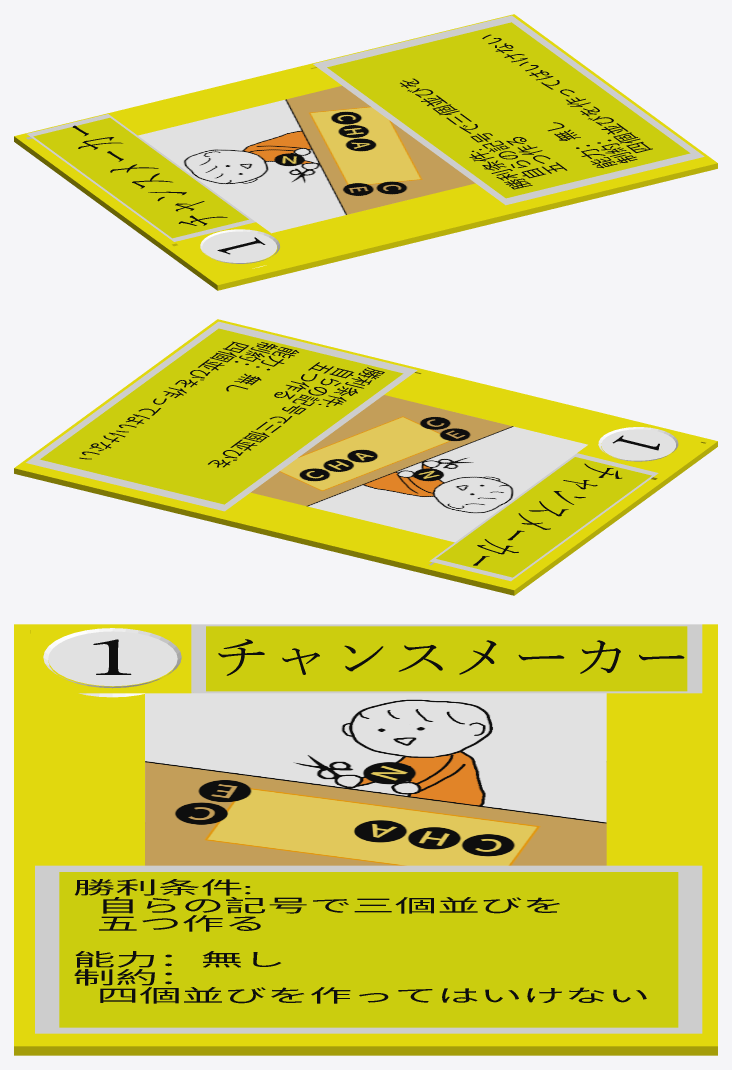
File: チャンスメーカー黄.fbx
3 views of the same model, one above another, from view 1: azimuth 30°, elevation 25°; view 2: azimuth 150°, elevation 25°; view 3: azimuth 270°, elevation 25° (orthographic). The views are drawn at different scales.
Parts seen in each view (by area): view 1: 説明欄, 平面.001, カード本体.001, 名前欄, 説明文, 円, 平面, 名前; view 2: 説明欄, 平面.001, カード本体.001, 名前欄, 説明文, 円, 平面, 名前; view 3: 説明欄, 平面.001, カード本体.001, 名前欄, 説明文, 円, 平面, 名前, コスト蘭.
Part boxes in pixels (left/top/right/bottom): 説明欄: left=313, top=15, right=704, bottom=205; 平面.001: left=138, top=86, right=475, bottom=233; カード本体.001: left=14, top=14, right=717, bottom=290; 名前欄: left=27, top=114, right=255, bottom=241; 説明文: left=400, top=34, right=652, bottom=189; 円: left=202, top=231, right=276, bottom=262; 平面: left=174, top=222, right=302, bottom=275; 名前: left=72, top=125, right=227, bottom=225; 説明欄: left=26, top=321, right=417, bottom=511; 平面.001: left=251, top=395, right=587, bottom=542; カード本体.001: left=14, top=319, right=717, bottom=595; 名前欄: left=429, top=453, right=658, bottom=581; 説明文: left=79, top=341, right=384, bottom=467; 円: left=601, top=429, right=675, bottom=460; 平面: left=577, top=419, right=704, bottom=472; 名前: left=473, top=463, right=621, bottom=565; 説明欄: left=35, top=865, right=702, bottom=1033; 平面.001: left=145, top=693, right=606, bottom=865; カード本体.001: left=14, top=624, right=717, bottom=1055; 名前欄: left=191, top=624, right=702, bottom=693; 説明文: left=74, top=879, right=646, bottom=1003; 円: left=48, top=631, right=177, bottom=686; 平面: left=30, top=624, right=191, bottom=693; 名前: left=218, top=639, right=684, bottom=675; コスト蘭: left=43, top=628, right=181, bottom=697.
Bounding box in the file's own units: 281 × 6.07 × 198.
13 materials, 1 textured.
